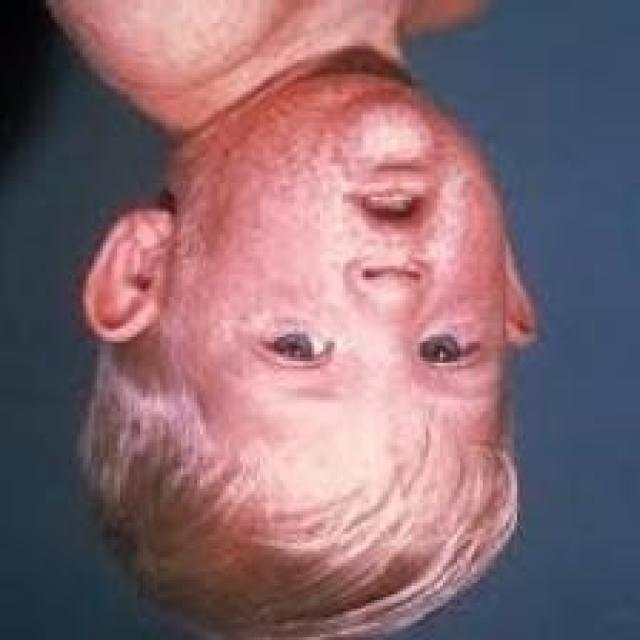others: (0, 0, 583, 598)
